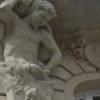Statue: (4, 0, 61, 92)
